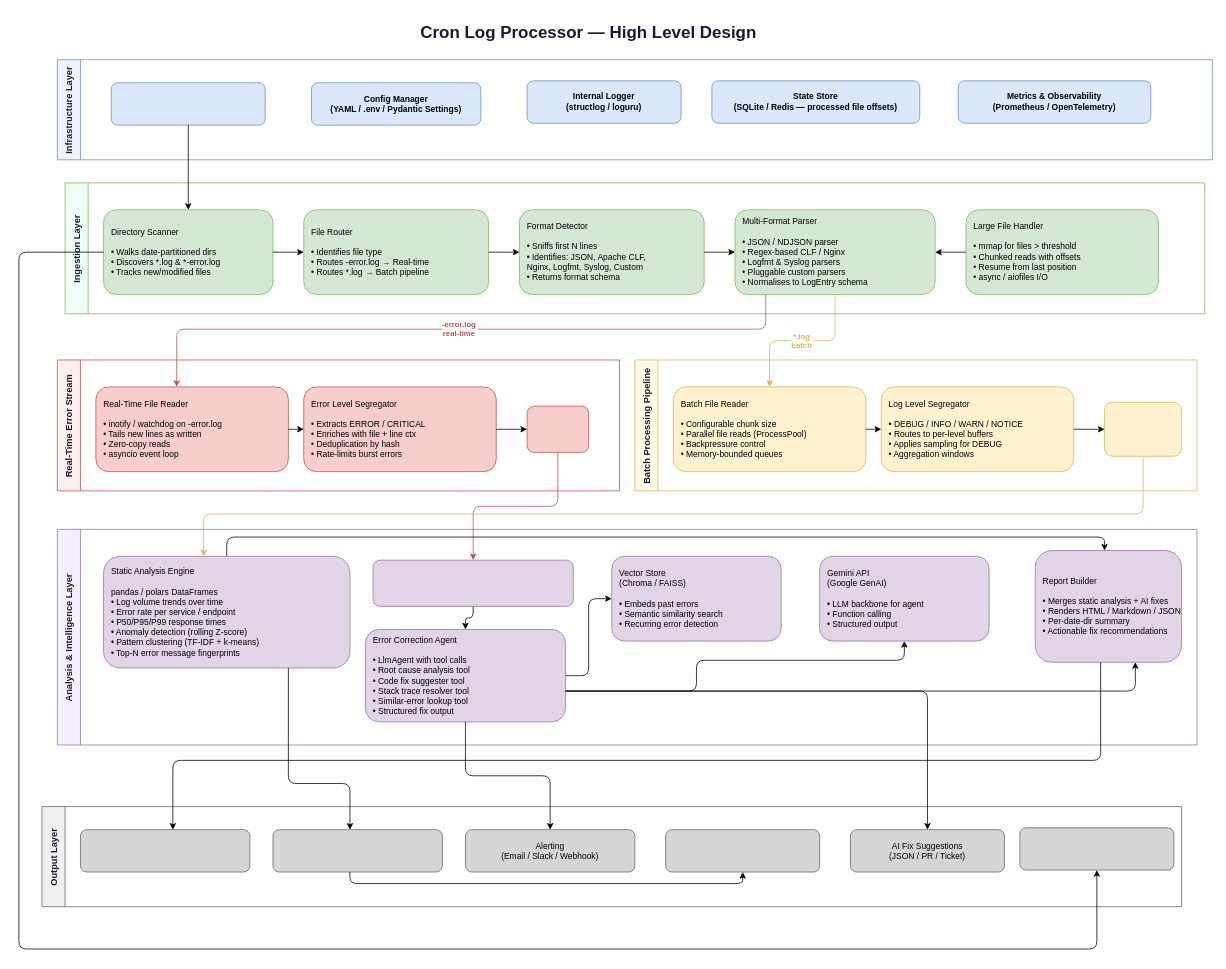
The diagram is 1226 pixels wide and 969 high, and some of its shapes have lost their labels. Here are the shapes that lost their labels. From the top down, the centre of each, then its label:
At point 187,103: "Cron Scheduler (system cron / APScheduler)".
At point 557,428: "Error Event Queue (asyncio.Queue / in-proc)".
At point 1143,429: "Level Buffers DEBUG | INFO | WARN".
At point 472,582: "Agent Orchestrator (Google ADK — ADK Runner)".
At point 165,850: "Analysis Reports (HTML / Markdown / JSON)".
At point 357,850: "Structured Log Store (DuckDB / SQLite)".
At point 742,850: "Dashboard (Grafana / Custom UI)".
At point 1096,848: "Audit Log (Processed file registry)".
